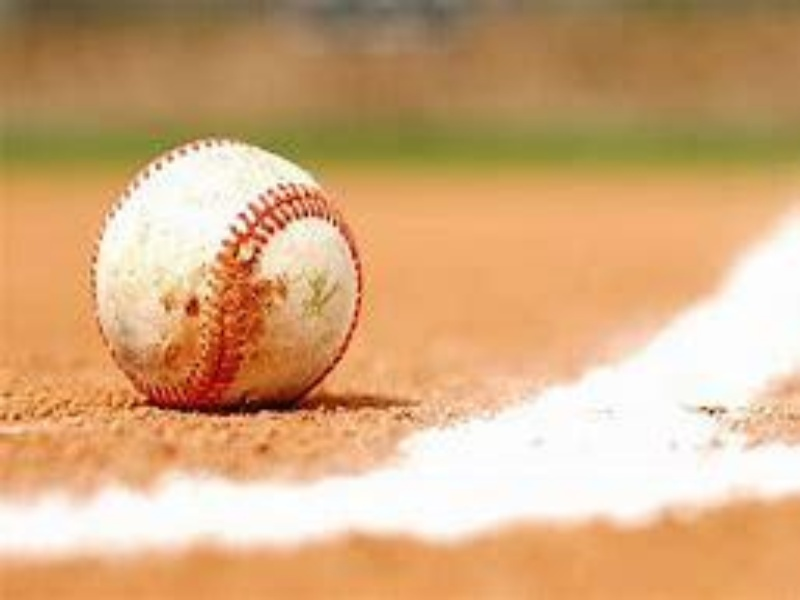baseball: (65, 139, 373, 407)
